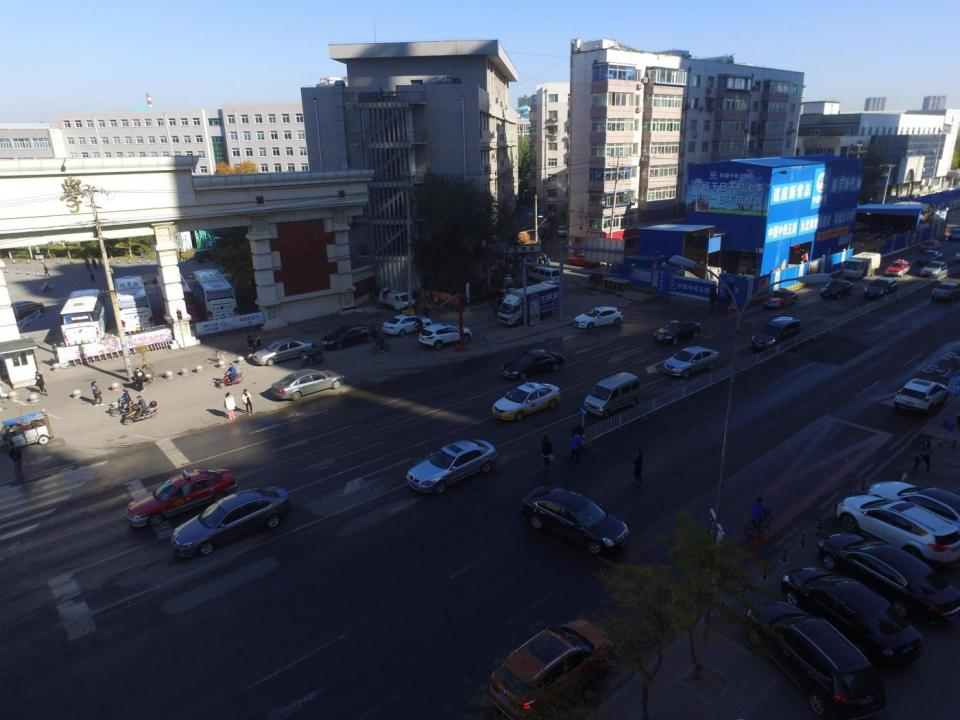bus: (190, 267, 244, 327), (63, 290, 110, 348), (113, 276, 156, 336), (156, 273, 200, 331)
car: (747, 600, 890, 720), (781, 564, 926, 668), (815, 531, 960, 625), (488, 620, 619, 720), (832, 494, 960, 572), (169, 483, 290, 560), (520, 482, 628, 559), (126, 467, 237, 527), (406, 438, 498, 494), (864, 476, 960, 529), (492, 378, 560, 422), (269, 370, 347, 399), (894, 375, 950, 414), (501, 348, 567, 378), (253, 338, 314, 370), (662, 346, 720, 379), (322, 324, 378, 350), (380, 311, 434, 337), (654, 317, 703, 345), (420, 324, 473, 349), (576, 304, 625, 329), (493, 283, 530, 307), (3, 300, 46, 320), (763, 286, 800, 309), (864, 277, 900, 300), (819, 278, 854, 299), (565, 251, 601, 268), (931, 281, 958, 301), (884, 259, 913, 277), (921, 260, 949, 277), (916, 250, 944, 266), (209, 233, 235, 250), (194, 248, 220, 261), (921, 239, 943, 253), (558, 225, 568, 239)
truck: (500, 279, 564, 324), (840, 250, 884, 281), (374, 284, 415, 310)
van: (581, 368, 646, 416), (750, 312, 804, 350), (529, 262, 563, 288)
